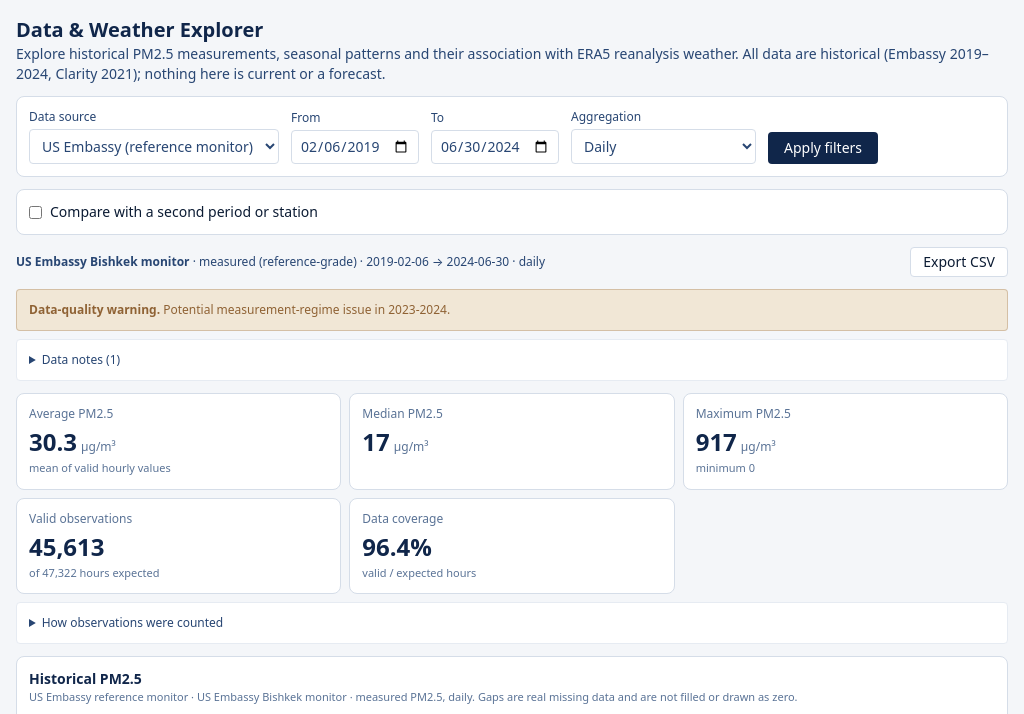
Scenario: Data & Weather Explorer page › switching to Clarity offers stations with data only and resets the dates to that station
Later steps or results of the test are not shown.
expect the element named "Summary" is shown: met, box [16,393,1008,644]
Select "Clarity (low-cost sensors)" in the dropdown labelled "Data source". click: (154, 146)
box: [29,129,279,164]
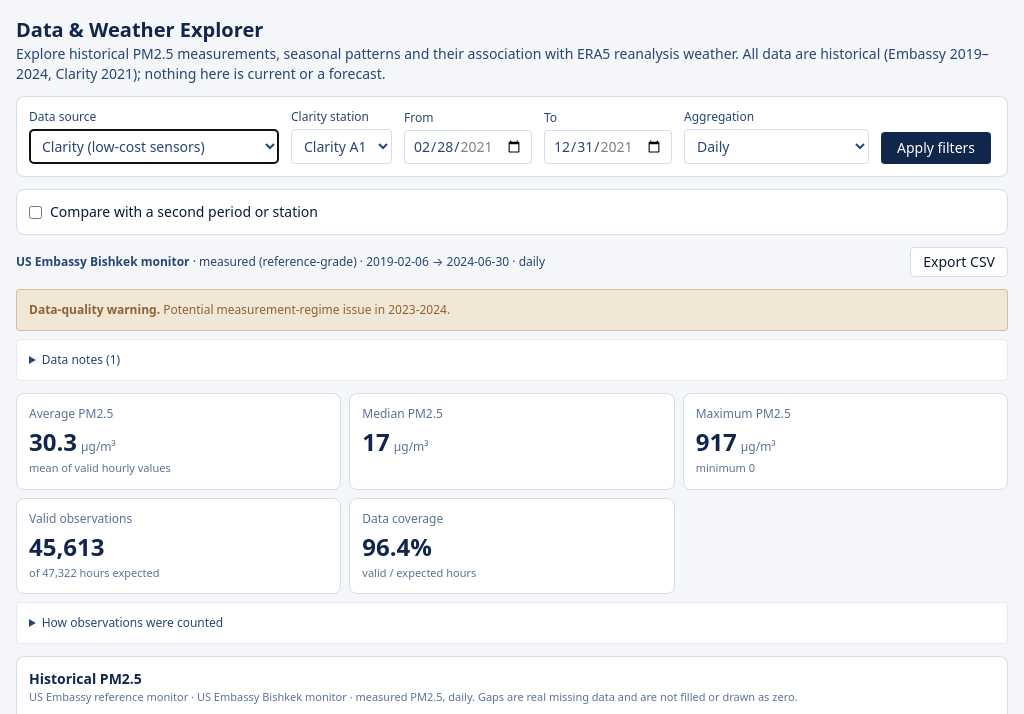
expect the date field named "Start date" holds "2021-02-28": met, box [404,130,532,164]
expect the date field named "End date" holds "2021-12-31": met, box [544,130,672,164]
